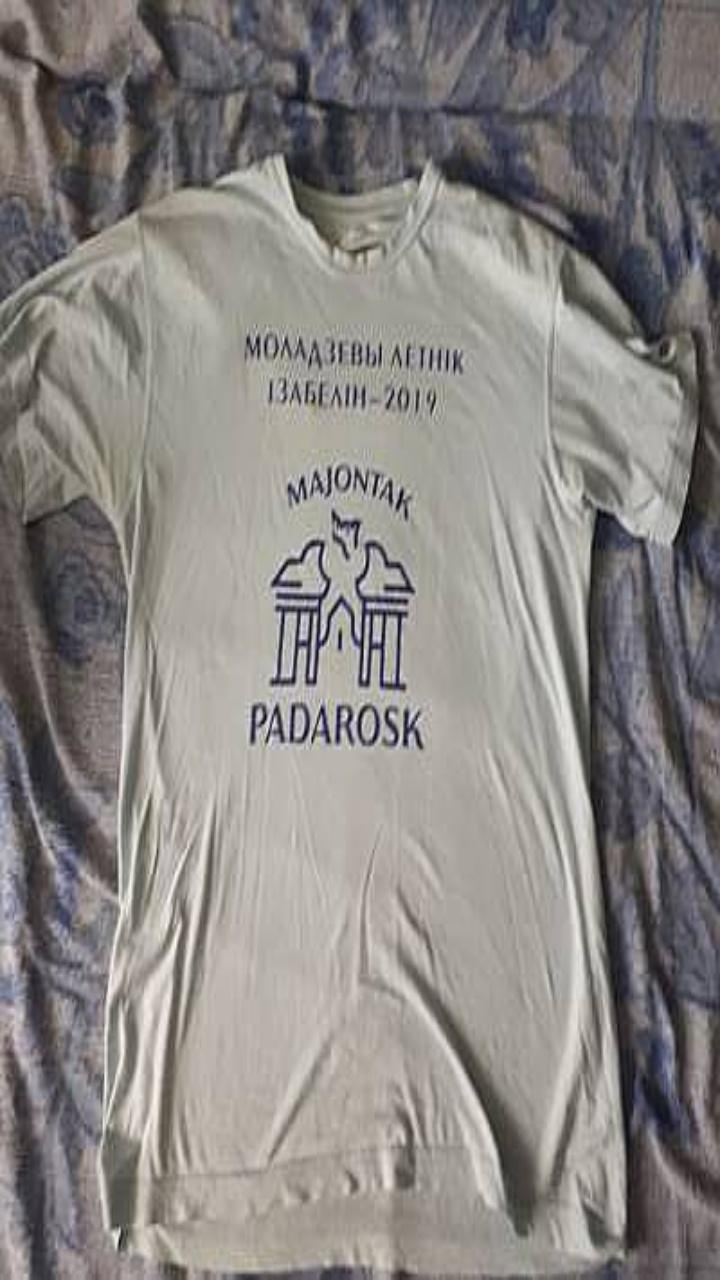T-Shirt: (0, 152, 696, 1273)
